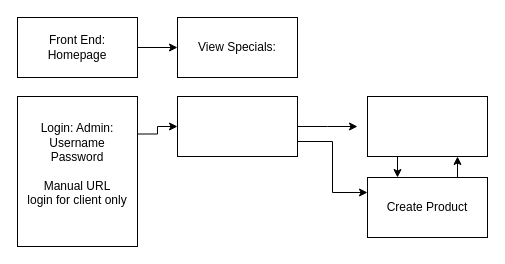
Image size: 505x264. Some labels were removed from this diagram. Each missing label, with the centre of its shape:
"Create Special" belongs at point 427,126.
"Specials/Product page" belongs at point 237,126.
